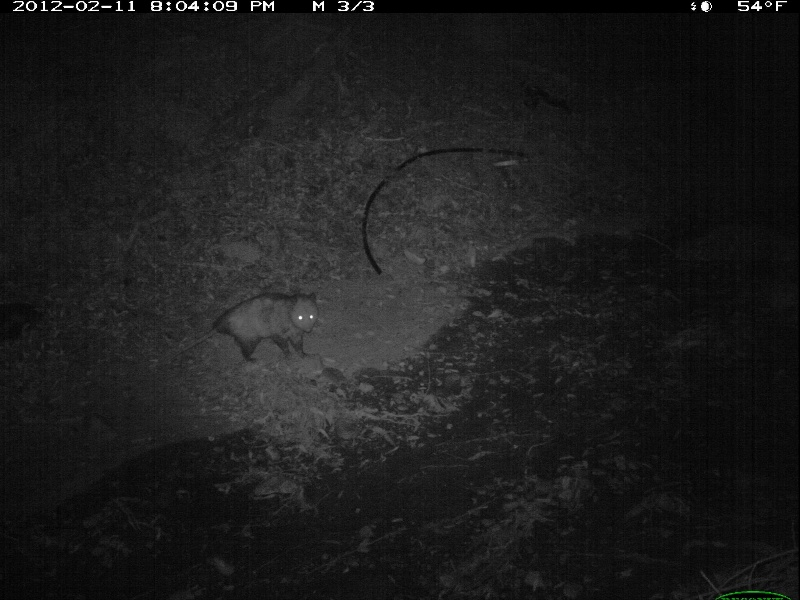opossum: (205, 291, 321, 362)
